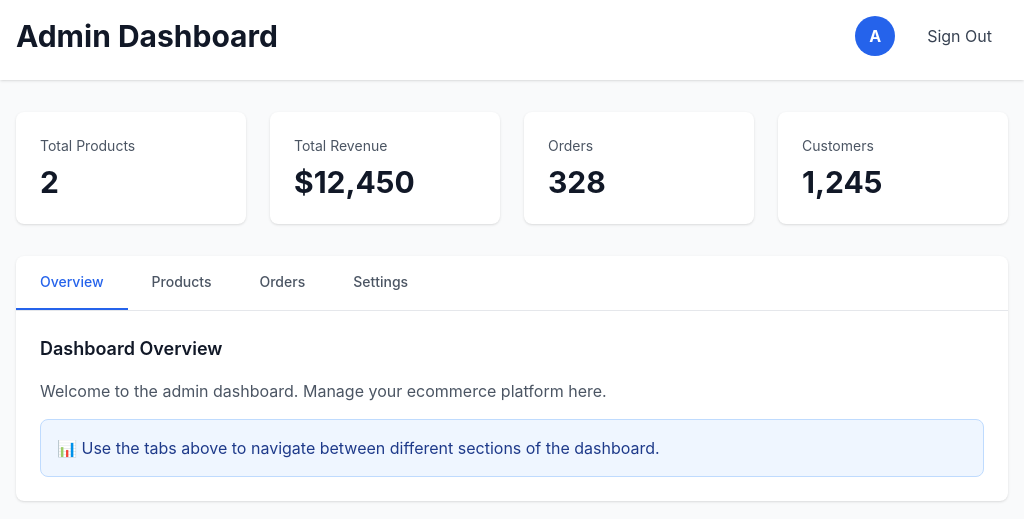
AdminDashboard › switches to orders tab and shows Order Management heading
This screenshot has width=1024, height=519.
What coordinates should you click on to do the following:
click the button "Orders"
I would click on:
 (282, 283)
Its box is [236,256,329,310].
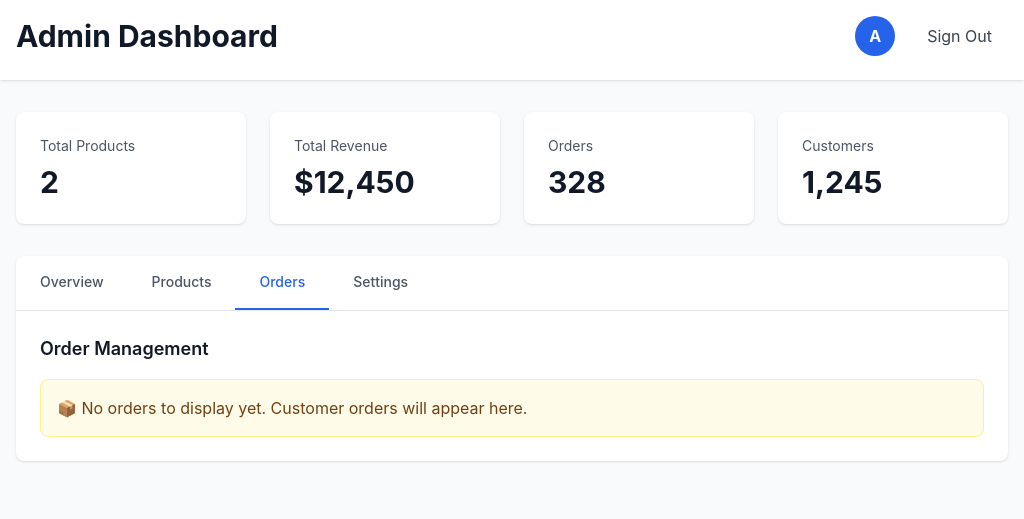
Expected: the heading "Order Management" is shown, [40,338,209,359]
